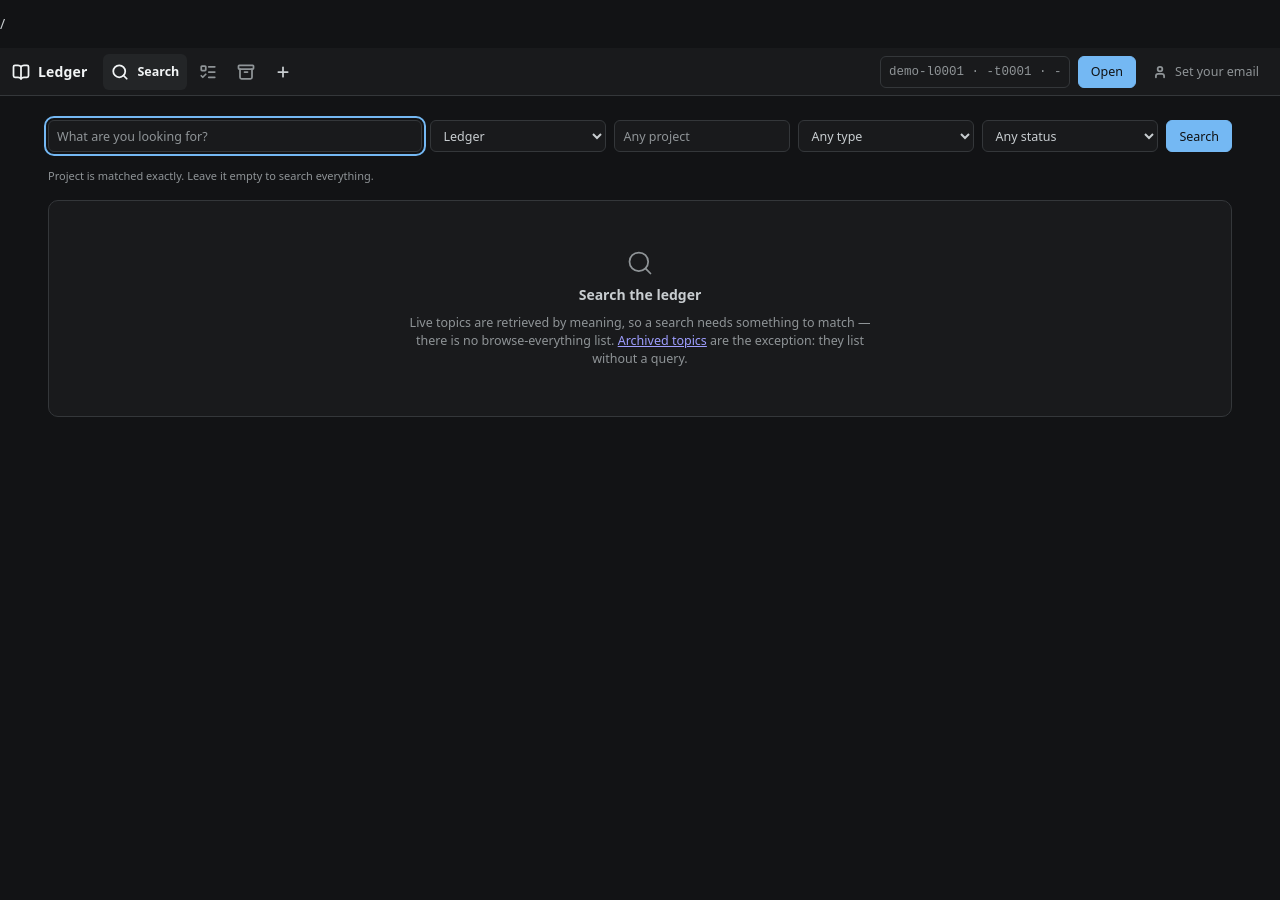
Test case: App › shows the identity, always, and always editable
Click the button "Set your email": point(1206, 72) [1144, 60, 1268, 84]
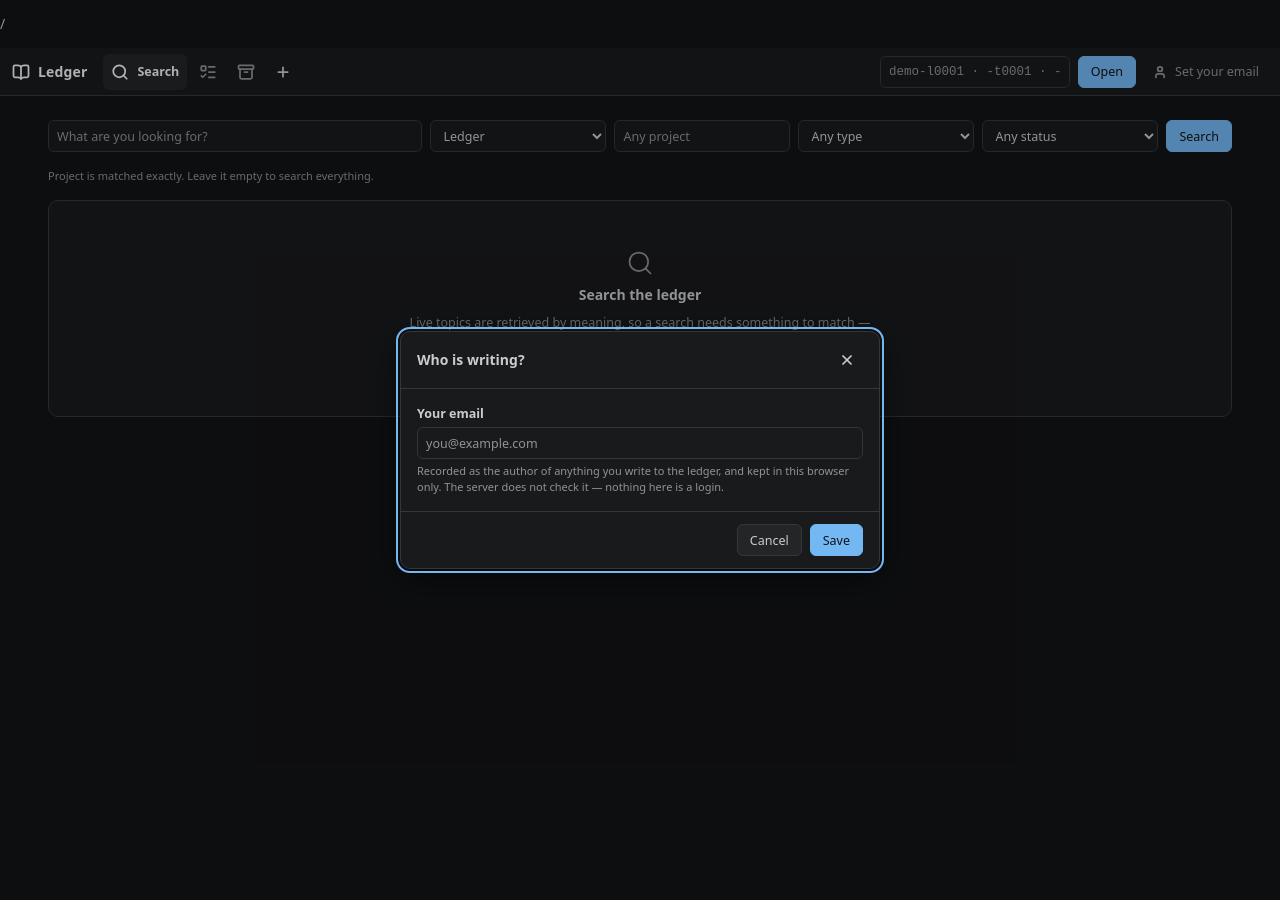
Expected: the dialog "Who is writing?" is shown, [400, 331, 880, 569]
